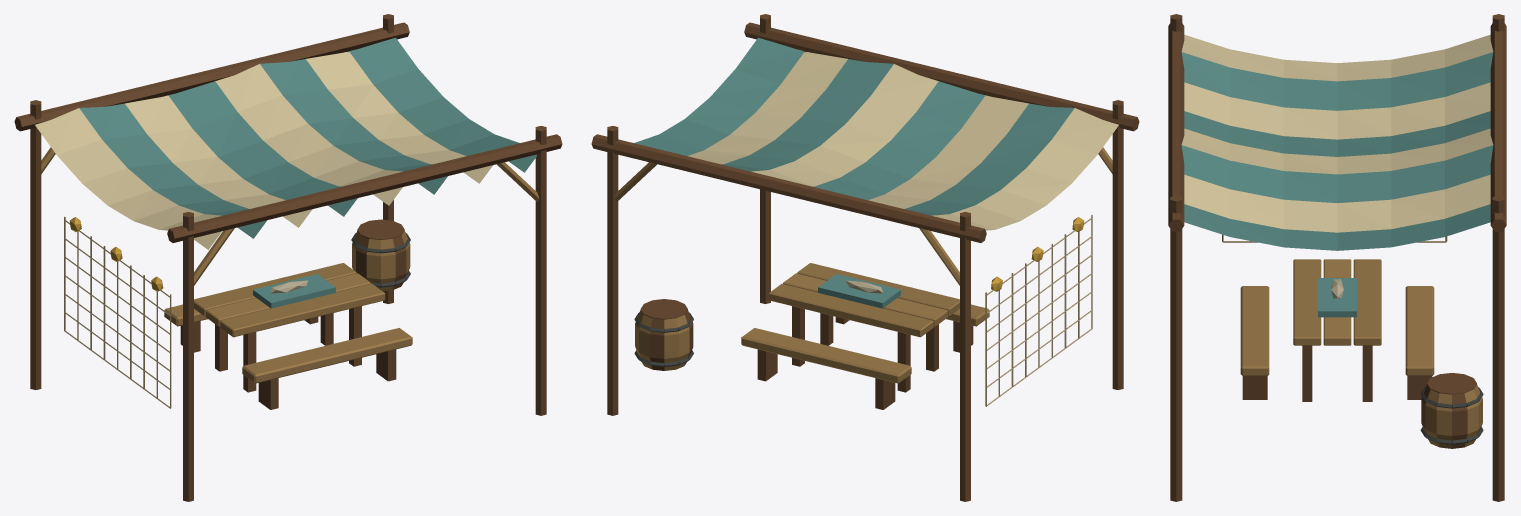
File: meadow_fishing_awning.glb
The picture shows the model from 3 angles, left to right: view 1: azimuth 30°, elevation 25°; view 2: azimuth 150°, elevation 25°; view 3: azimuth 270°, elevation 25°; orthographic projection. The views are drawn at different scales.
Visible parts, largest first — view 1: meadow_fishing_awning_body; view 2: meadow_fishing_awning_body; view 3: meadow_fishing_awning_body.
Part boxes in pixels (box(x1,y1,x2,y2)): meadow_fishing_awning_body: box(14, 14, 562, 501); meadow_fishing_awning_body: box(591, 14, 1139, 501); meadow_fishing_awning_body: box(1168, 14, 1506, 501).
Size of the model in its own units: 6.6 by 4.63 by 4.72.
